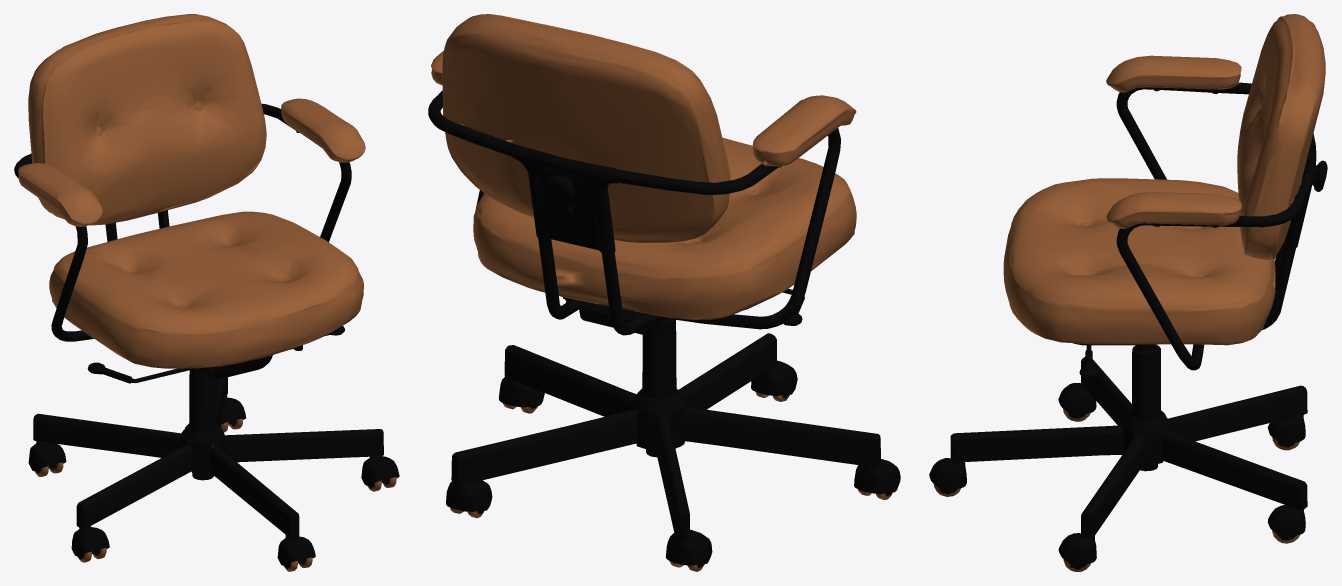
File: 21 - ALEFJÄLL Office chair - Grann golden-brown.glb
3 views of the same model, side by side, from view 1: azimuth 30°, elevation 25°; view 2: azimuth 150°, elevation 25°; view 3: azimuth 270°, elevation 25° (orthographic). The views are drawn at different scales.
Visible parts, largest first — view 1: ProcessedMeshNode; view 2: ProcessedMeshNode; view 3: ProcessedMeshNode.
Part boxes in pixels (bbox=[...]): ProcessedMeshNode: bbox=[14, 14, 399, 571]; ProcessedMeshNode: bbox=[428, 14, 900, 571]; ProcessedMeshNode: bbox=[929, 14, 1327, 571].
Size of the model in its own units: 0.6742 by 0.8451 by 0.6843.
Materials: 1 (1 with a texture image).
